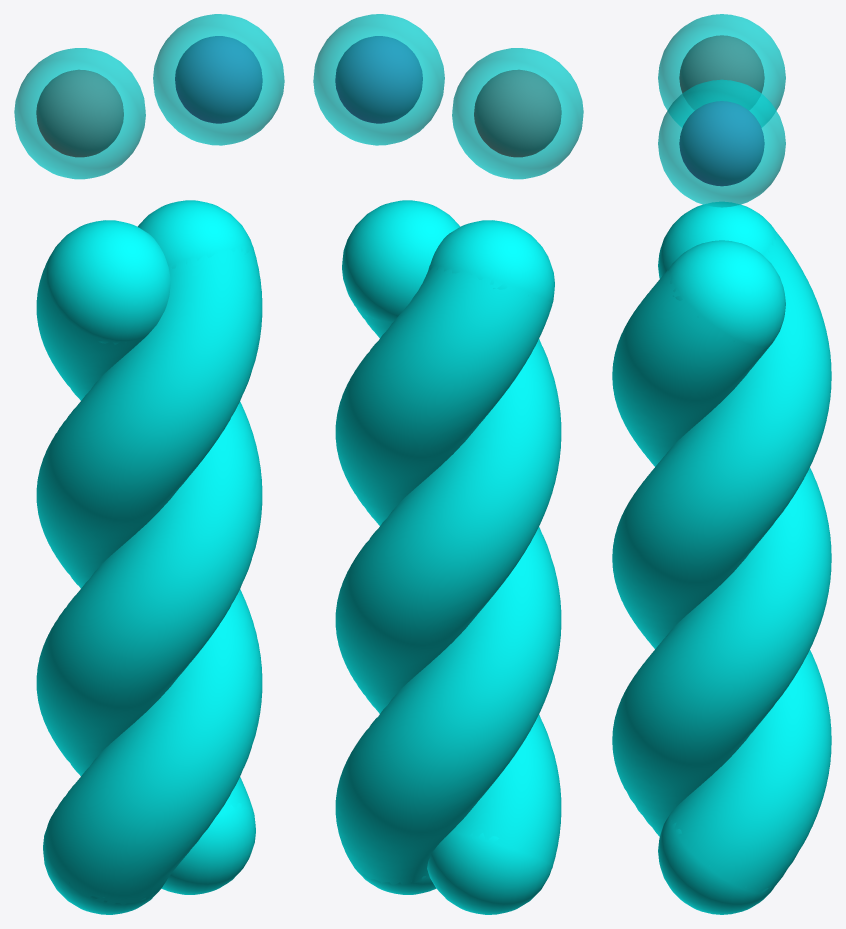
The model's file is TwistedDoubleI.dae.
The picture shows the model from 3 angles, left to right: view 1: azimuth 30°, elevation 25°; view 2: azimuth 150°, elevation 25°; view 3: azimuth 270°, elevation 25°; orthographic projection. The views are drawn at different scales.
Parts seen in each view (by area): view 1: strandN, strandP, dotP, dotN, topP, pupilN, pupilP, botP, topN, botN; view 2: strandP, strandN, dotP, dotN, topN, botN, topP, pupilN, pupilP, botP; view 3: strandP, strandN, dotN, dotP, topN, pupilN, botP, topP, pupilP.
Part boxes in pixels (x1,y1,x2,y2): strandN: (36, 245, 262, 905); strandP: (36, 257, 262, 813); dotP: (14, 48, 145, 179); dotN: (153, 14, 284, 145); topP: (44, 220, 170, 344); pupilN: (175, 36, 262, 123); pupilP: (36, 69, 123, 157); botP: (161, 803, 255, 894); topN: (137, 200, 252, 268); botN: (43, 829, 161, 914); strandP: (335, 265, 561, 885); strandN: (335, 296, 561, 868); dotP: (452, 48, 583, 179); dotN: (313, 14, 444, 145); topN: (342, 200, 460, 322); botN: (427, 830, 551, 914); topP: (430, 220, 554, 306); pupilN: (335, 36, 422, 123); pupilP: (474, 69, 561, 157); botP: (348, 858, 436, 894); strandP: (612, 227, 831, 893); strandN: (612, 266, 831, 836); dotN: (658, 79, 785, 207); dotP: (658, 14, 785, 126); topN: (668, 240, 785, 351); pupilN: (679, 101, 764, 186); botP: (658, 813, 772, 914); topP: (658, 202, 775, 278); pupilP: (679, 35, 764, 93).
Size of the model in its own units: 6.2 by 4.8 by 20.19.
